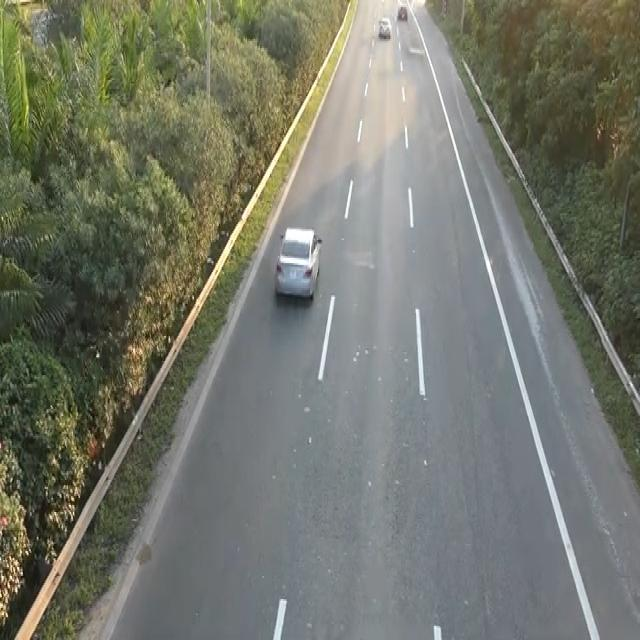bus: (273, 222, 323, 302), (396, 2, 408, 21)
